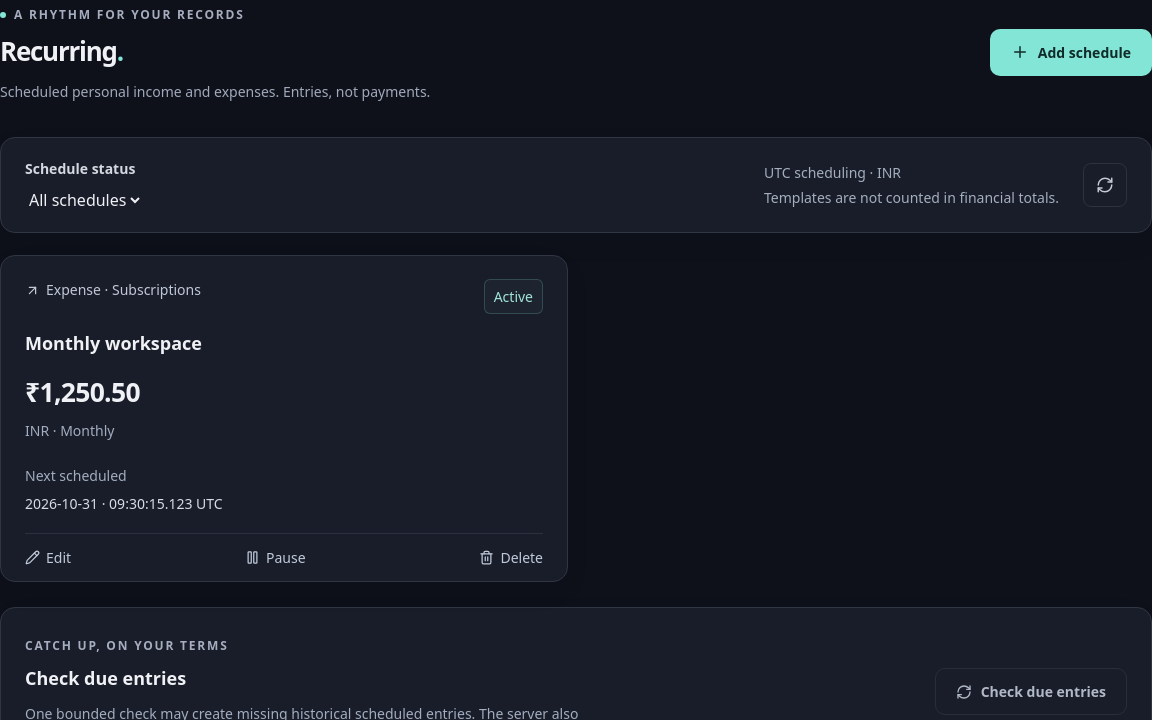
Scenario: fetches fresh edit values, preserves precise anchor dates, clears optional fields and retains its ETag
This screenshot has width=1152, height=720.
Click the button with aria-label "Edit Monthly workspace": (48, 557) [25,534,71,581]
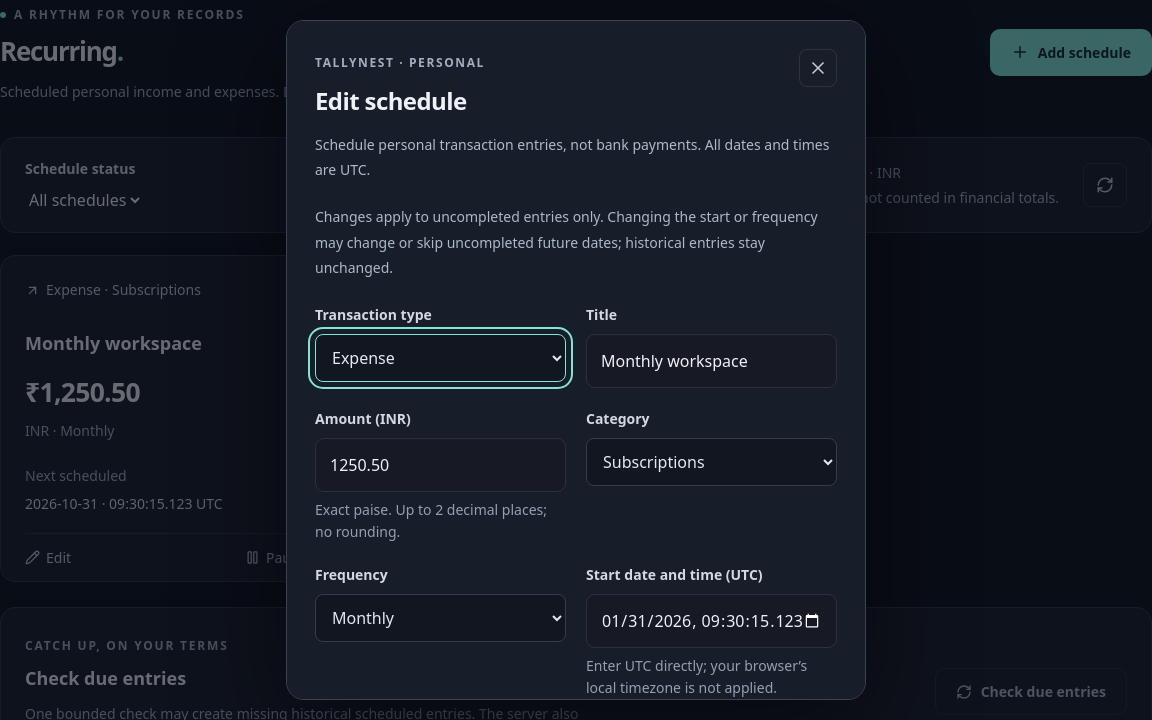
Result: the field showing "1250.50" is shown
Result: the field labelled "Start date and time (UTC)" holds "2026-01-31T09:30:15.123" at [587,595,836,647]
Replace the text in the field labelled "Amount (INR)" with "1250.51": (440, 465) [316,439,565,491]
(page scrolled)
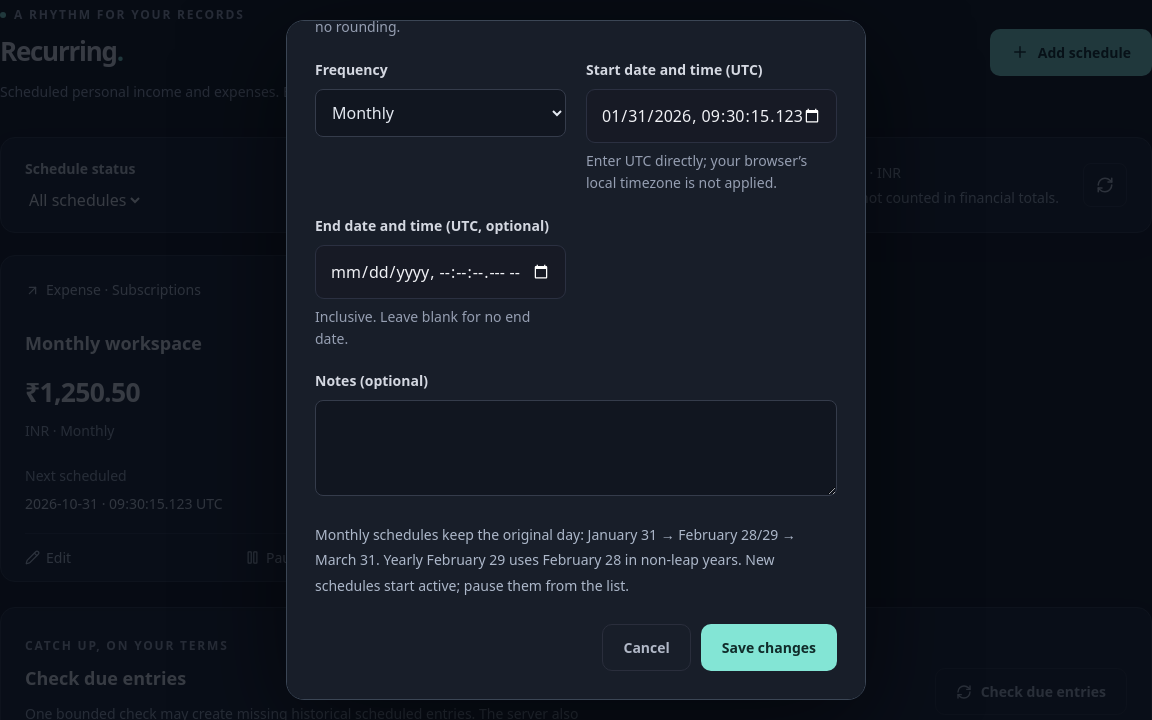
Click the button "Save changes": (769, 647) [701,624,837,671]
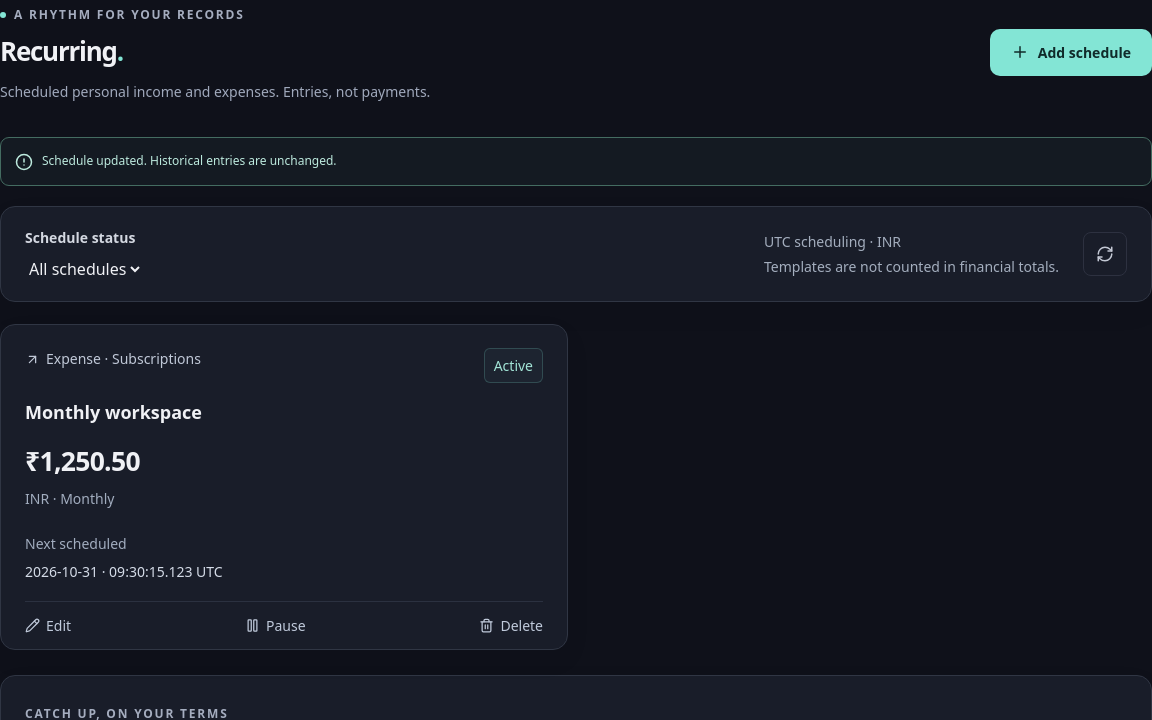
Result: the text "Schedule updated. Historical entries are unchanged." is shown at [42,152,337,172]
